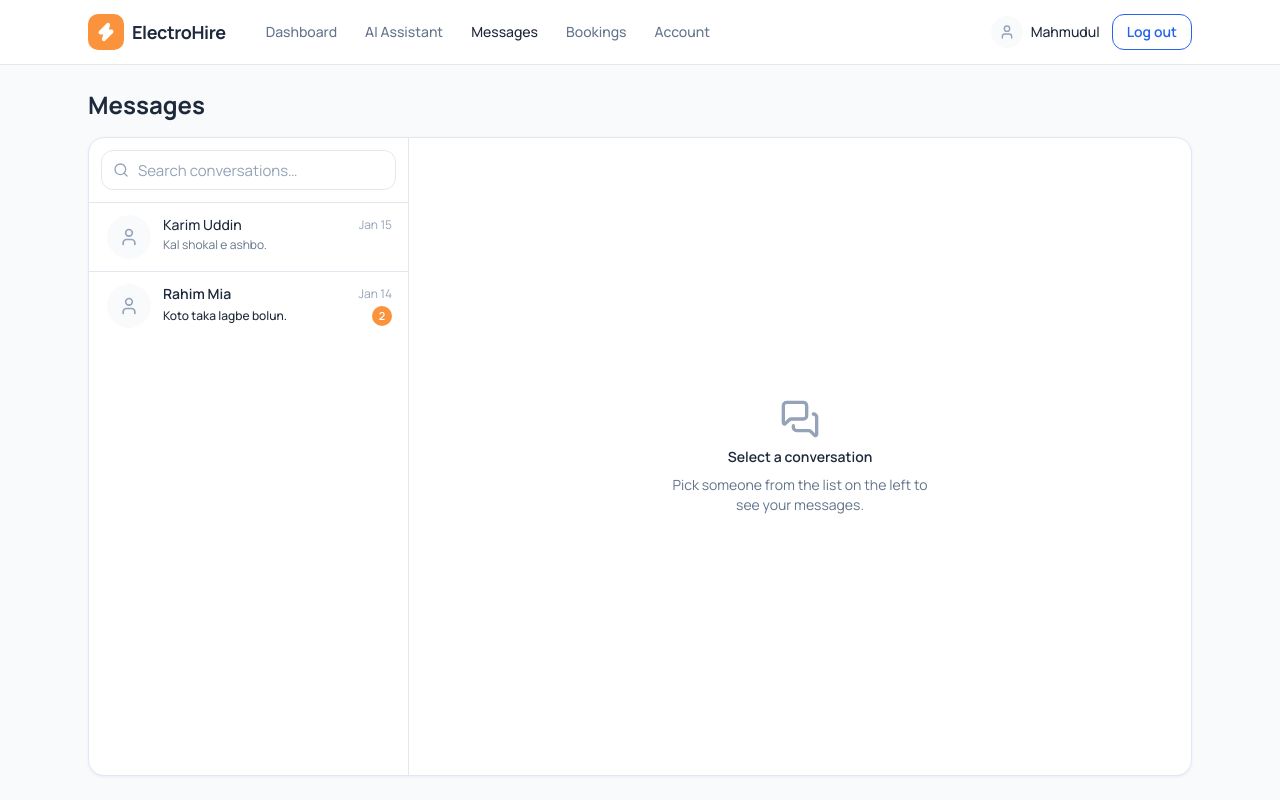
Test case: ChatsPage › shows the "Rate this provider" banner for a provider conversation, dismissibly
Step 1. Click the button "Karim Uddin Jan 15 Kal shokal e ashbo." → (248, 237), box [89, 203, 408, 271]
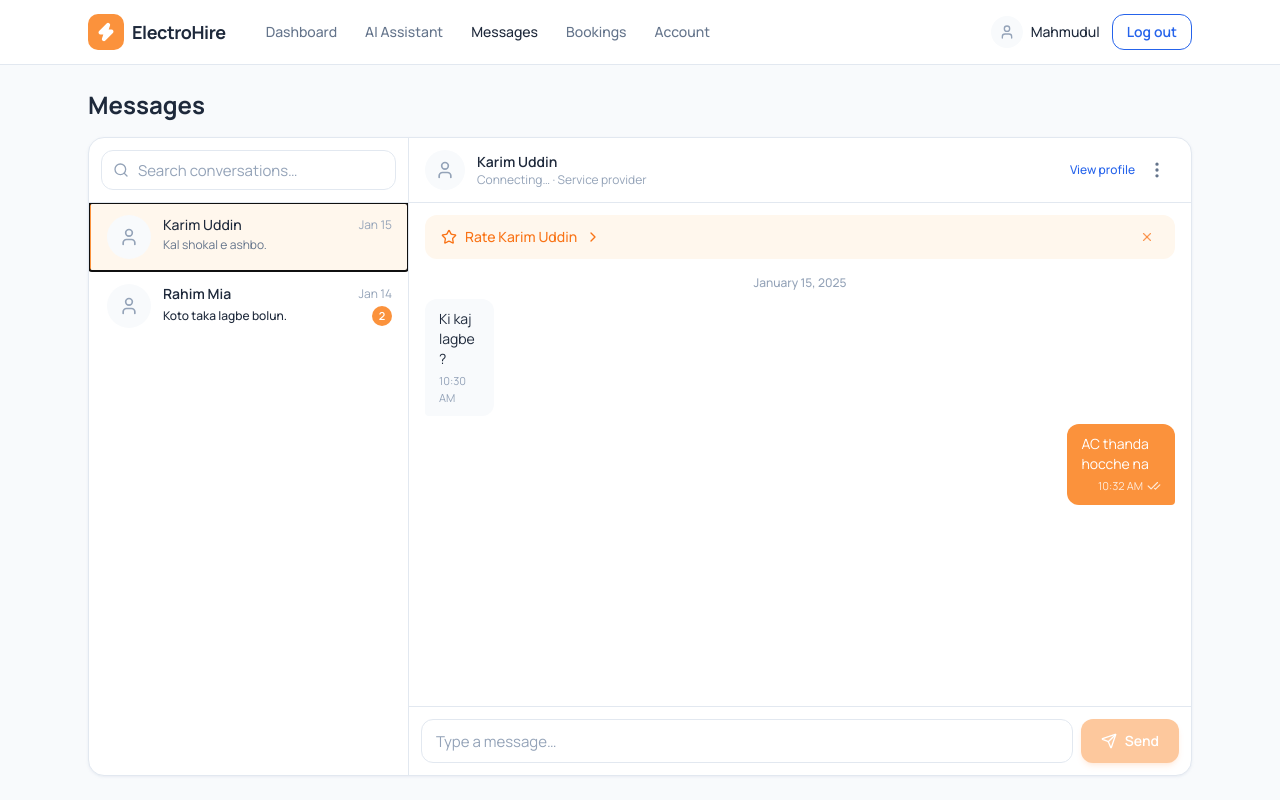
Now the text "Rate Karim Uddin" is shown, box [465, 227, 577, 247]
Step 2. Click the button named "dismiss" → (1147, 237), box [1135, 225, 1159, 249]
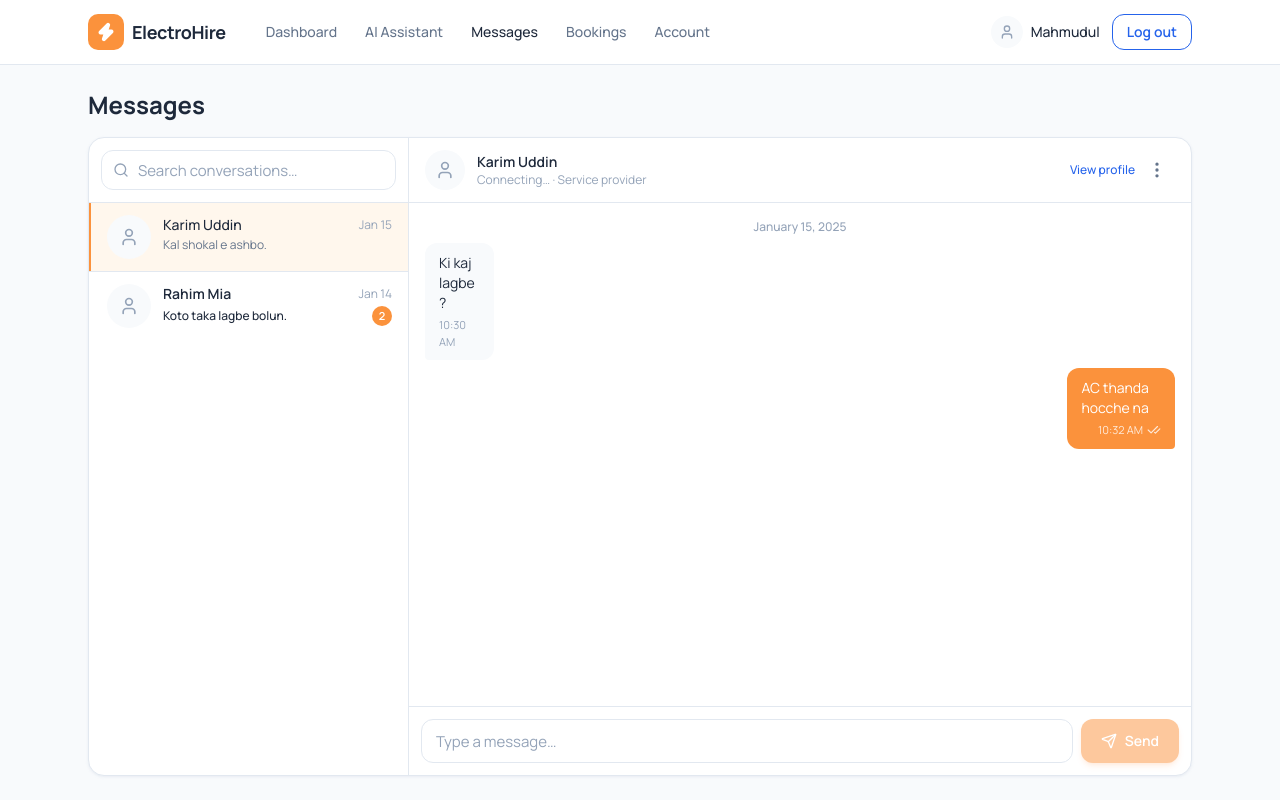
Now the link "Rate Karim Uddin" is gone
